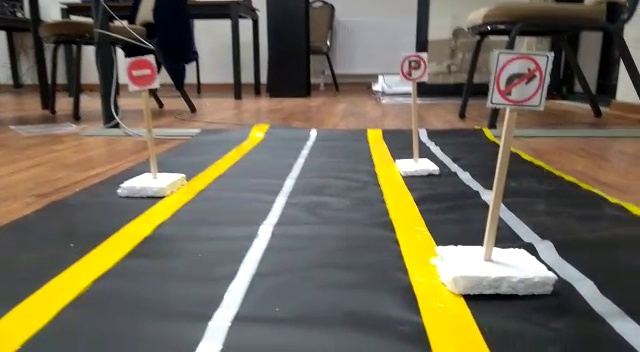girisi_olmayan_yol: (126, 57, 160, 89)
park_yapilmaz: (399, 50, 429, 83)
saga_donulmez: (490, 48, 547, 109)
